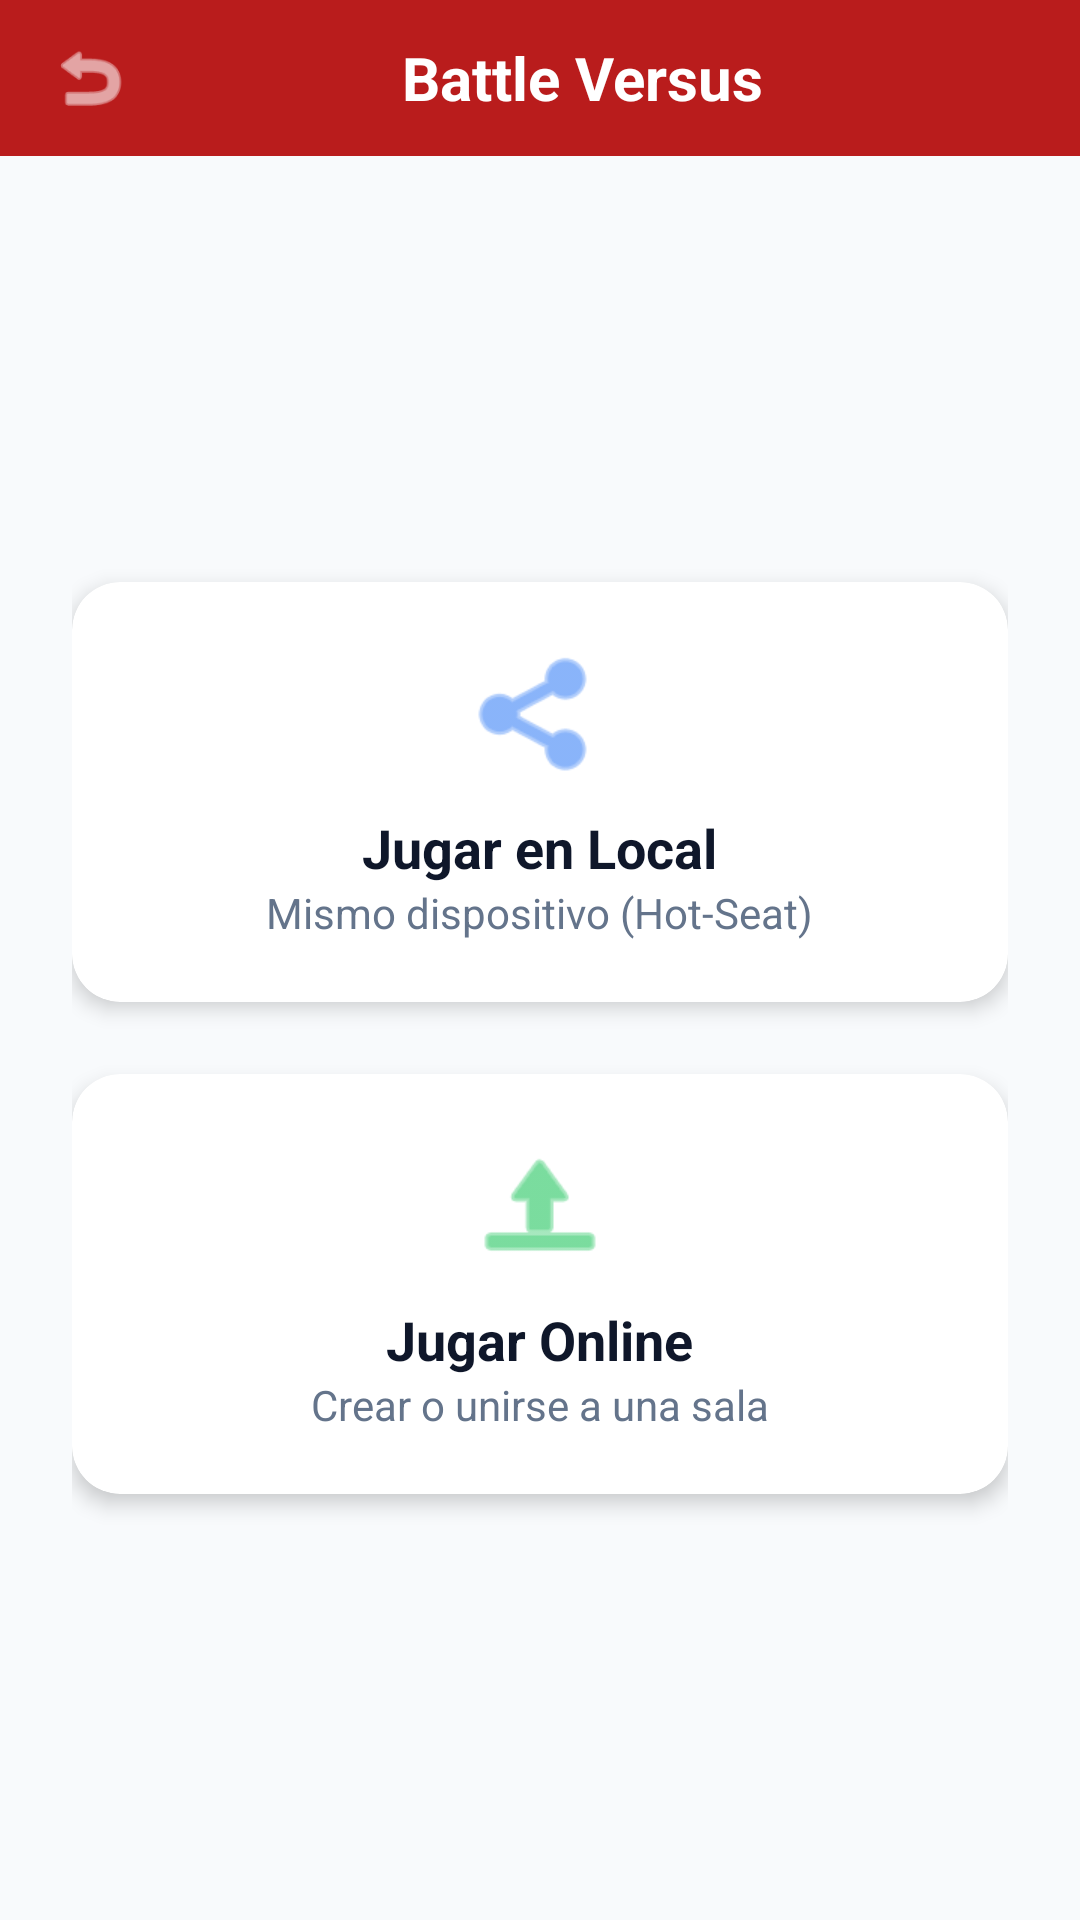

Screen size 1080*1920. Icon name, then its box in pixels as [x1,y1,x2,y2]:
revert: [61,51,121,106]
share: [478,658,586,771]
upload: [484,1159,596,1251]
